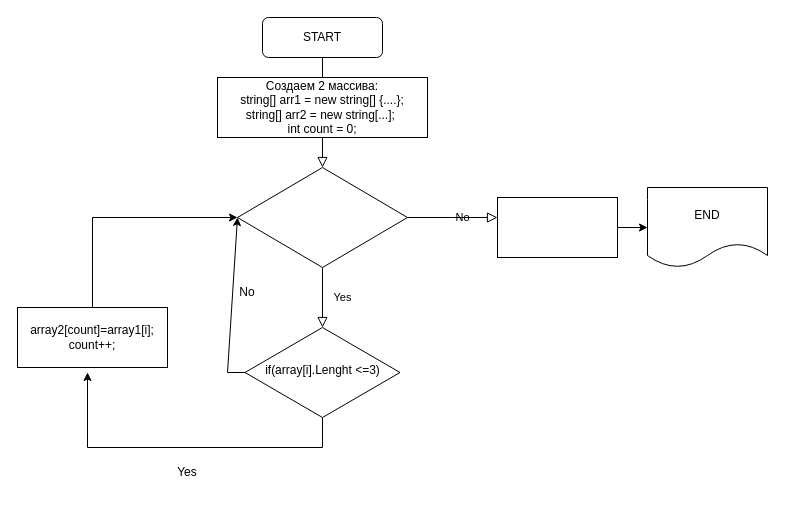
This 785x505 diagram has some shape labels left out. The centre of each missing label's shape, as x and y in pixels:
i=0; i<array1.Lenght; i++;: [322,217]
Вывод нового массива на экран: [557,227]
